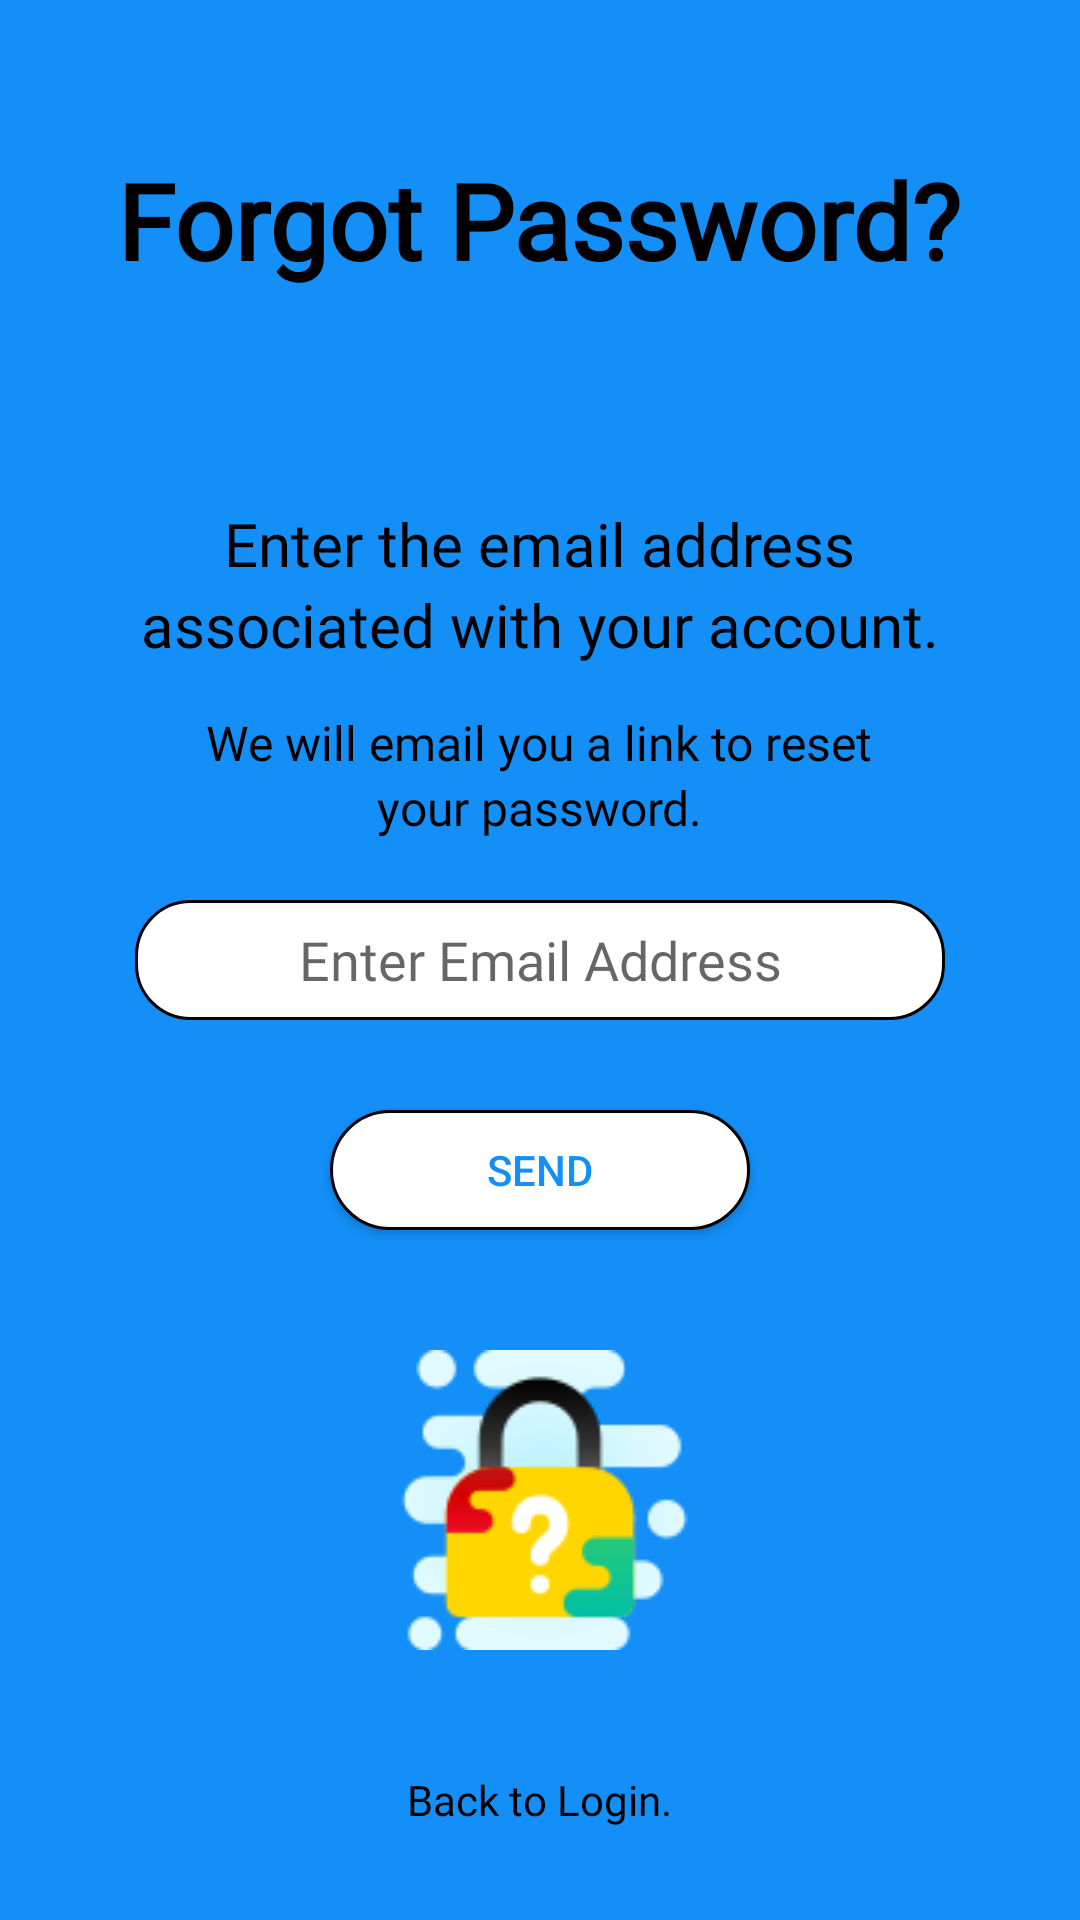

Screen size 1080 x 1920. Icon name, then its center in pixels as (x=x, y=y):
lock: (x=545, y=1500)
